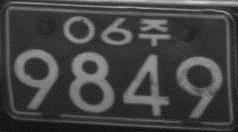0: (61, 14, 96, 44)
4: (122, 53, 169, 117)
6: (99, 16, 133, 46)
8: (68, 50, 116, 114)
9: (174, 54, 224, 118), (12, 48, 59, 110)
주: (138, 17, 171, 47)
